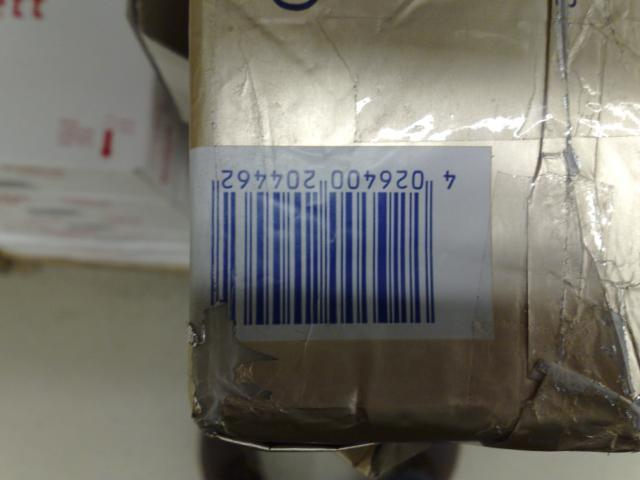Barcode: (196, 157, 478, 341)
